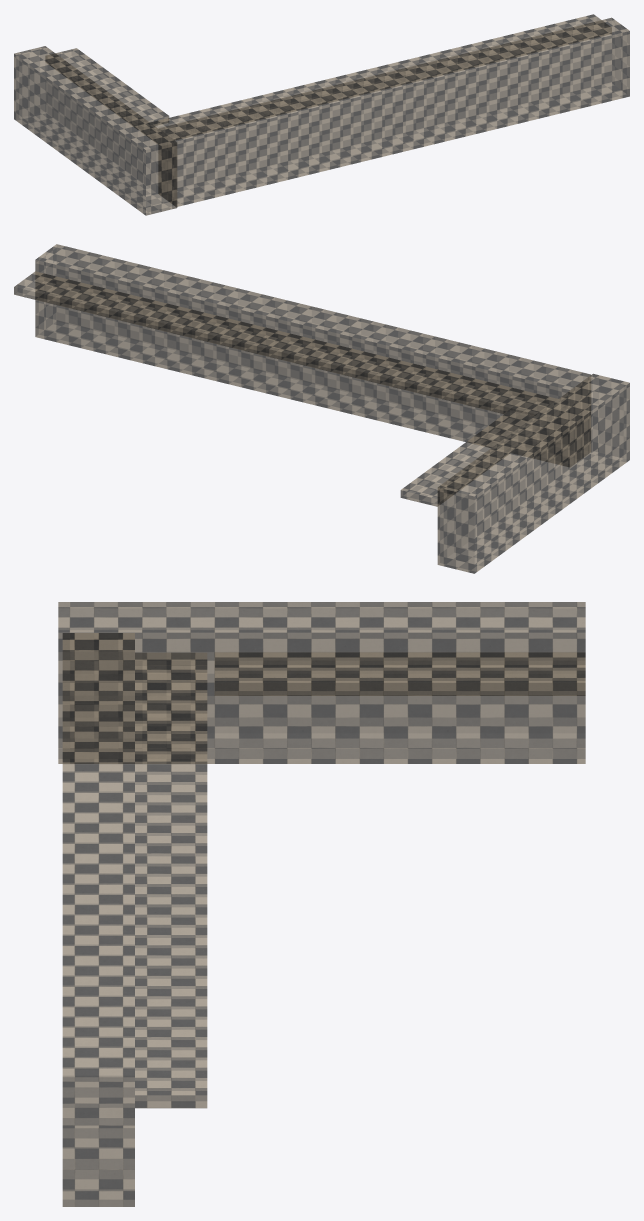
File: Big_Counter.obj
3 views of the same model, one above another, from view 1: azimuth 30°, elevation 25°; view 2: azimuth 150°, elevation 25°; view 3: azimuth 270°, elevation 25° (orthographic). The views are drawn at different scales.
Parts seen in each view (by area): view 1: Big_Counter; view 2: Big_Counter; view 3: Big_Counter.
Boxes of the visible parts, x1,y1,x2,y2 form: Big_Counter: [14, 14, 629, 215]; Big_Counter: [14, 244, 629, 573]; Big_Counter: [58, 602, 585, 1206].
Size of the model in its own units: 7.74 by 1 by 3.64.
1 material, 1 textured.
